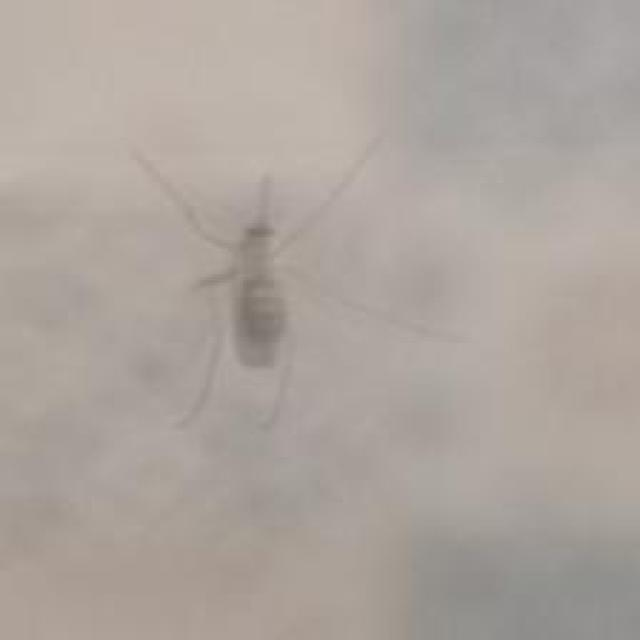Culex: (127, 130, 467, 436)
